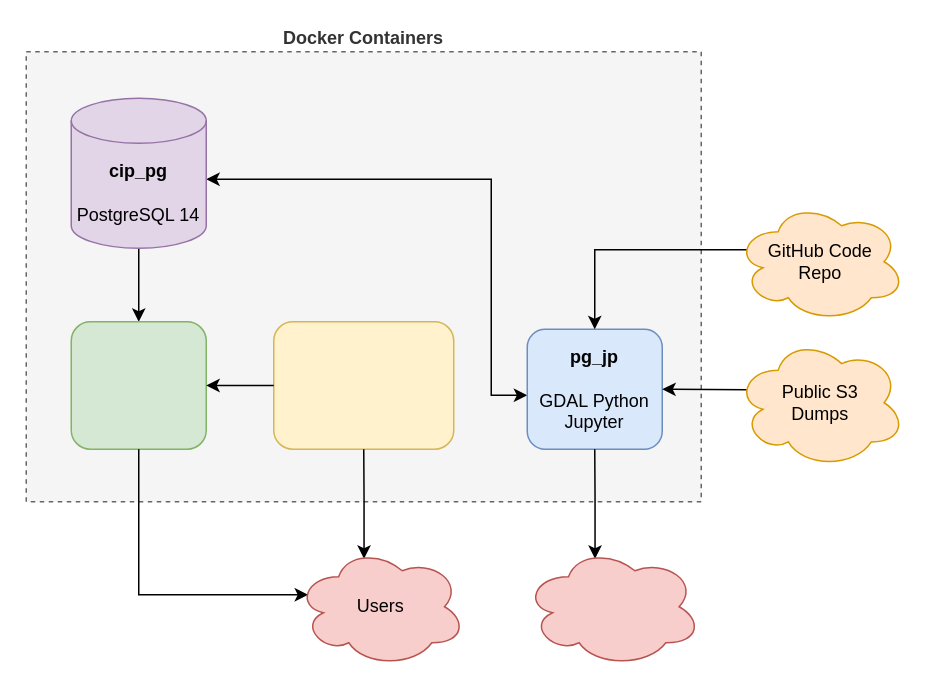
This 932x693 diagram has some shape labels left out. Here are the shapes that lost their labels. From the top down, the centre of each, then its label:
the point at 138,384: pg_pr PostgREST 10
the point at 363,384: pg_ng Web Server
the point at 612,606: Admins
